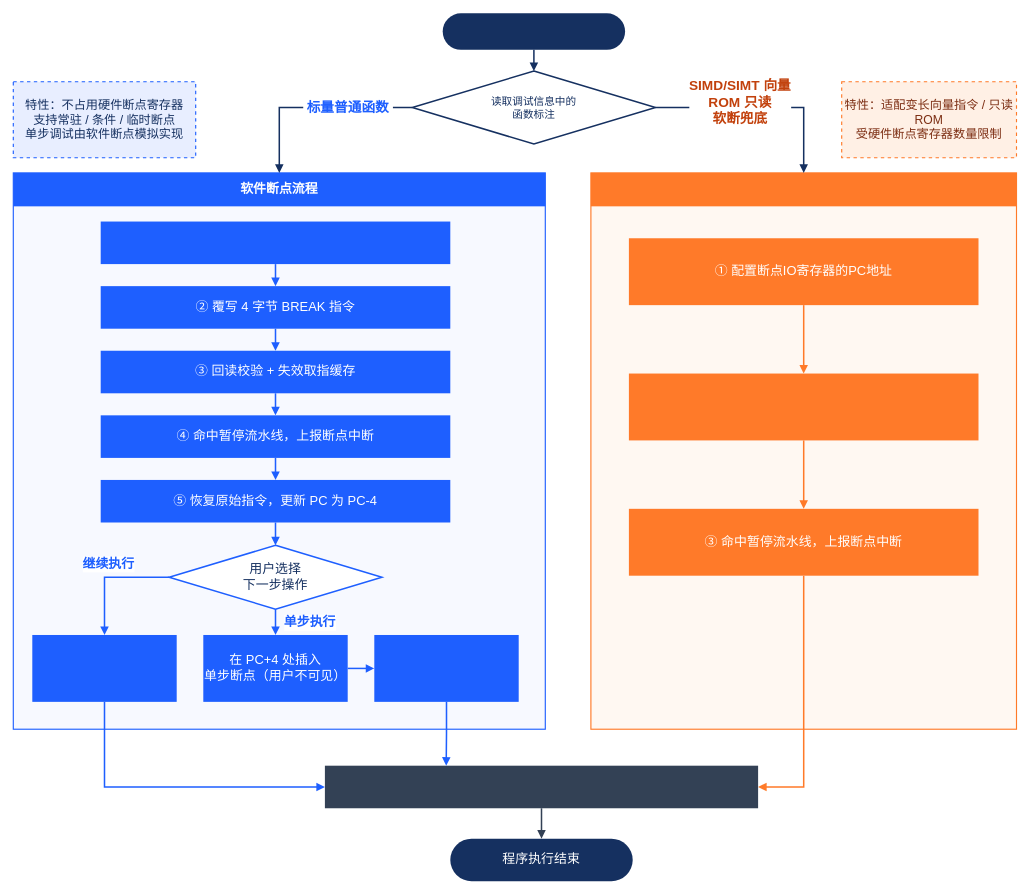
Some shapes in this 1031 by 894 pixel diagram are drawn without their labels. The shapes that lost their labels are listed below. From the top down, each one's centre as x and y in pixels, then its label:
At (533,31): "用户通过调试器下发断点".
At (803,189): "硬件断点流程".
At (275,242): "① 读取目标地址原始指令".
At (803,406): "② 流水线实时比对 PC，不修改指令内存".
At (104,668): "直接运行 直至程序结束".
At (446,668): "单步执行至 PC+4 实现单步调试效果".
At (541,786): "断点处查看寄存器、变量、内存等状态信息".
